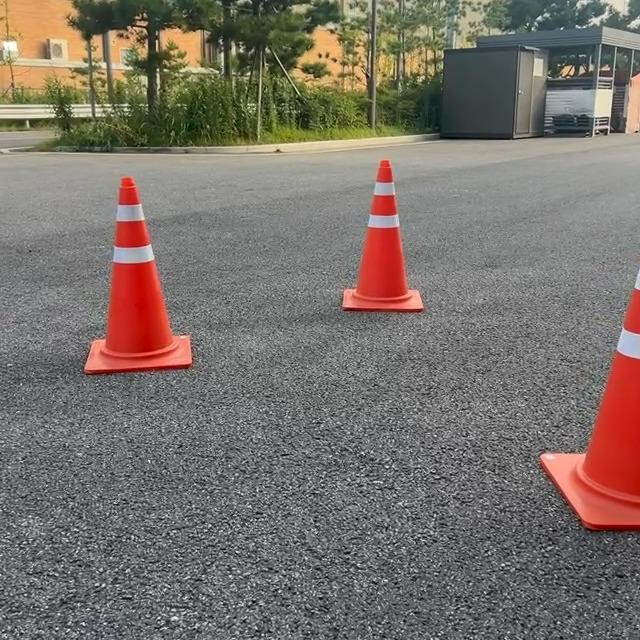fallen_object: (494, 217, 640, 592), (282, 90, 432, 357), (52, 116, 189, 337)
